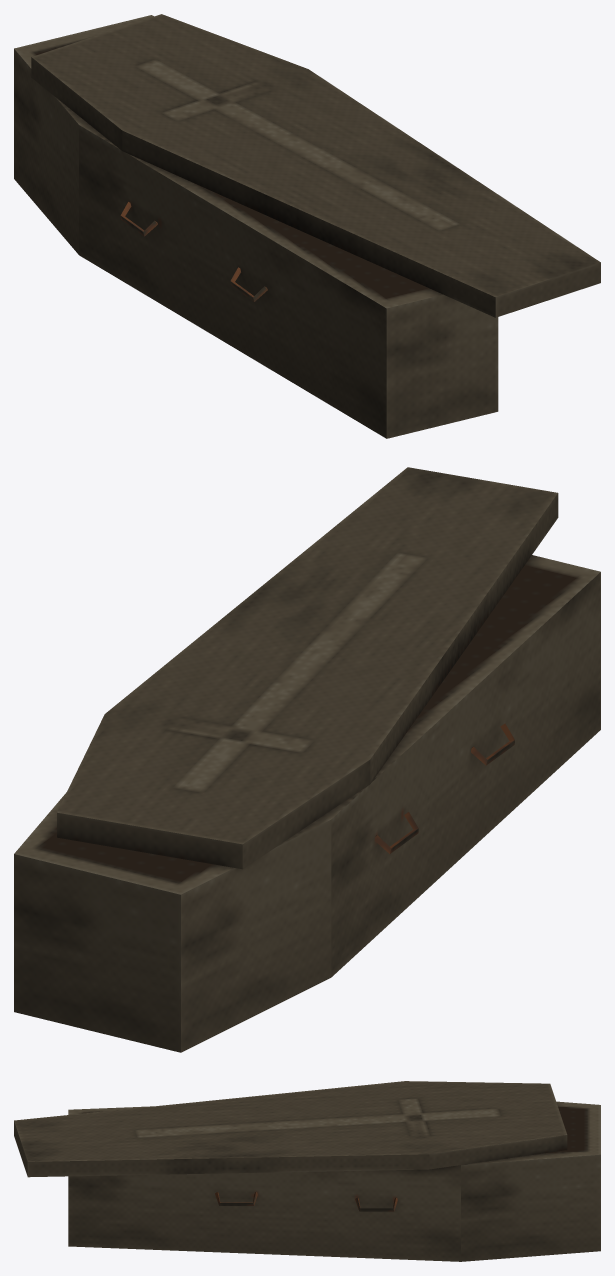
File: Coffin_01.obj
3 renders of one model, top to bottom at view 1: azimuth 30°, elevation 25°; view 2: azimuth 150°, elevation 25°; view 3: azimuth 270°, elevation 25°, orthographic. The views are drawn at different scales.
Visible parts, largest first — view 1: Coffin_01; view 2: Coffin_01; view 3: Coffin_01.
Part boxes in pixels (left/top/right/bottom): Coffin_01: left=14, top=14, right=600, bottom=438; Coffin_01: left=14, top=467, right=600, bottom=1052; Coffin_01: left=14, top=1081, right=600, bottom=1261.
Bounding box in the file's own units: 0.7122 × 0.44 × 2.09.
1 material, 1 textured.
